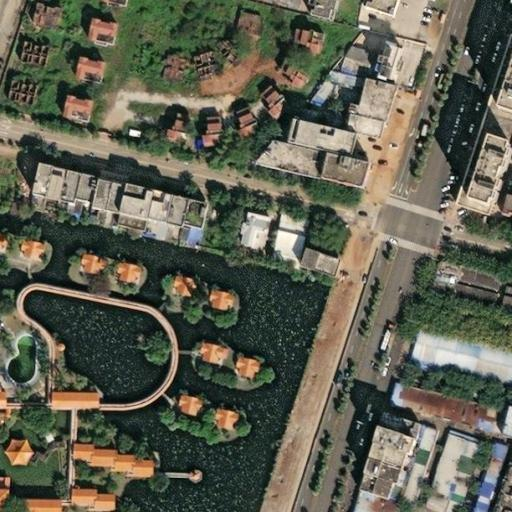building: (443, 28, 512, 210), (397, 329, 499, 380), (389, 384, 493, 431), (413, 432, 470, 512), (456, 121, 500, 196), (458, 442, 502, 512), (238, 138, 310, 176), (331, 80, 375, 138), (433, 263, 491, 307), (270, 116, 338, 153), (226, 204, 268, 252), (130, 214, 191, 246), (260, 210, 296, 257), (306, 149, 351, 182), (105, 176, 139, 214), (363, 418, 405, 444), (49, 88, 84, 119), (150, 184, 178, 221), (232, 7, 264, 39), (74, 10, 107, 40), (60, 49, 93, 79), (341, 491, 387, 512), (55, 200, 98, 222), (488, 276, 512, 315), (159, 51, 189, 82), (0, 371, 19, 417), (366, 407, 408, 427), (133, 181, 156, 217), (329, 53, 366, 75), (7, 39, 38, 65), (487, 405, 512, 437), (39, 386, 86, 403), (364, 42, 388, 75), (172, 192, 196, 224), (389, 472, 410, 505), (294, 0, 324, 23), (421, 260, 441, 294), (19, 155, 38, 189), (78, 175, 99, 205), (159, 272, 186, 295), (48, 164, 68, 195), (5, 237, 33, 258), (288, 234, 310, 260), (325, 66, 353, 86), (303, 79, 325, 104), (67, 250, 92, 272), (187, 339, 212, 361), (202, 404, 227, 426), (166, 392, 191, 414), (198, 287, 224, 308), (0, 436, 21, 462), (490, 193, 512, 217), (335, 45, 366, 62), (305, 243, 330, 264), (103, 258, 128, 279), (63, 172, 83, 198), (368, 458, 391, 480), (32, 167, 52, 192), (59, 482, 84, 502), (104, 209, 133, 226), (224, 354, 247, 375), (94, 178, 110, 208), (373, 444, 397, 464), (267, 52, 288, 73), (406, 426, 425, 449), (80, 444, 105, 461), (377, 381, 394, 406), (223, 102, 244, 122), (252, 94, 272, 114), (354, 451, 374, 471), (58, 437, 80, 454), (361, 476, 380, 495), (347, 473, 366, 492), (83, 490, 103, 508), (401, 445, 419, 465), (276, 64, 294, 83), (359, 437, 377, 456), (292, 31, 309, 51), (249, 82, 266, 99), (105, 450, 123, 466), (123, 456, 143, 470), (193, 111, 210, 127), (398, 461, 414, 476), (282, 24, 296, 41), (222, 119, 240, 131), (188, 126, 202, 139), (117, 129, 129, 137), (178, 469, 187, 478), (45, 341, 52, 348)
